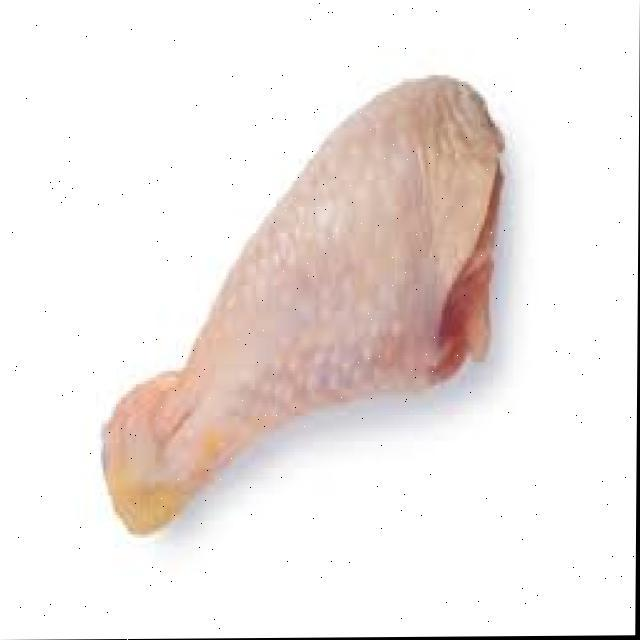leg: (92, 67, 514, 547)
